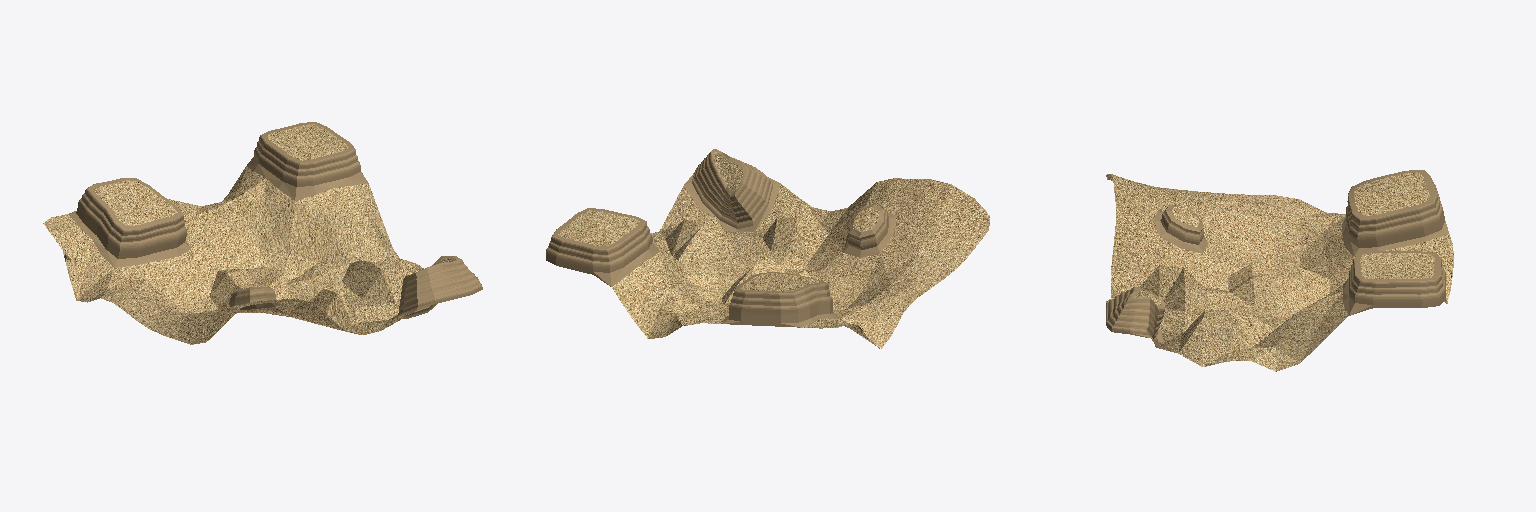
3 renders of one model, left to right at view 1: azimuth 30°, elevation 25°; view 2: azimuth 150°, elevation 25°; view 3: azimuth 270°, elevation 25°, orthographic.
Visible parts, largest first — view 1: Plane; view 2: Plane; view 3: Plane.
Boxes of the visible parts, x1,y1,x2,y2 form: Plane: [43, 122, 482, 344]; Plane: [546, 149, 989, 348]; Plane: [1106, 170, 1453, 371].
Size of the model in its own units: 10 by 2.86 by 10.25.
Materials: 1 (1 with a texture image).